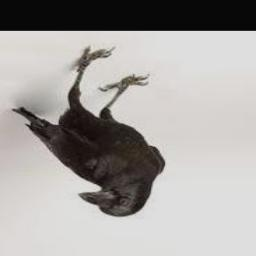Crow: (13, 45, 166, 218)
